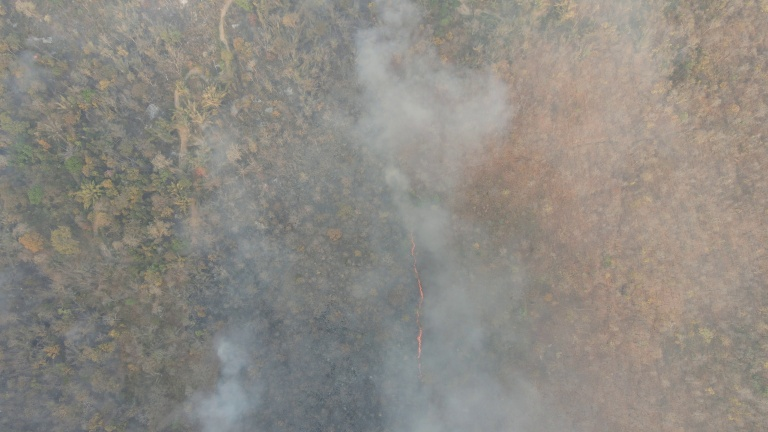fire: (404, 213, 423, 386)
smoke: (390, 255, 533, 429), (357, 22, 506, 186), (191, 325, 277, 432)
